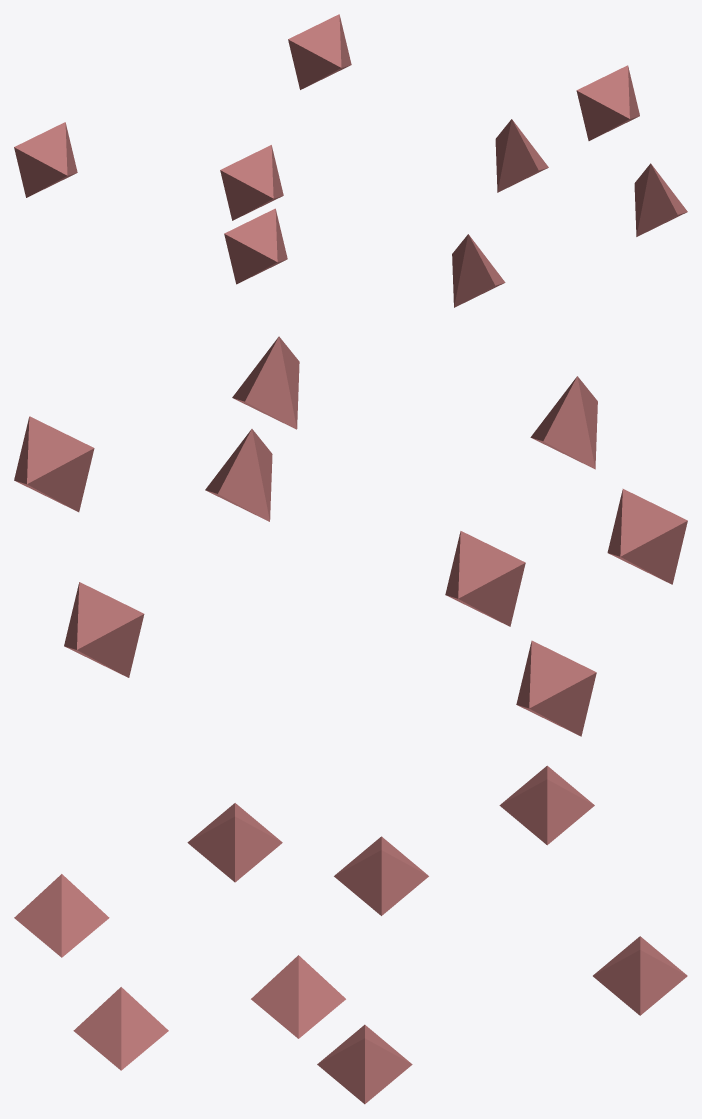
File: Fish-3.fbx
3 renders of one model, top to bottom at view 1: azimuth 30°, elevation 25°; view 2: azimuth 150°, elevation 25°; view 3: azimuth 270°, elevation 25°, orthographic. The views are drawn at different scales.
Visible parts, largest first — view 1: Fish-3; view 2: Fish-3; view 3: Fish-3.
Boxes of the visible parts, box(x1,y1,x2,y2) form: Fish-3: box(14, 14, 687, 307); Fish-3: box(14, 336, 687, 736); Fish-3: box(14, 765, 687, 1104).
Size of the model in its own units: 76.76 by 9.53 by 74.52.
